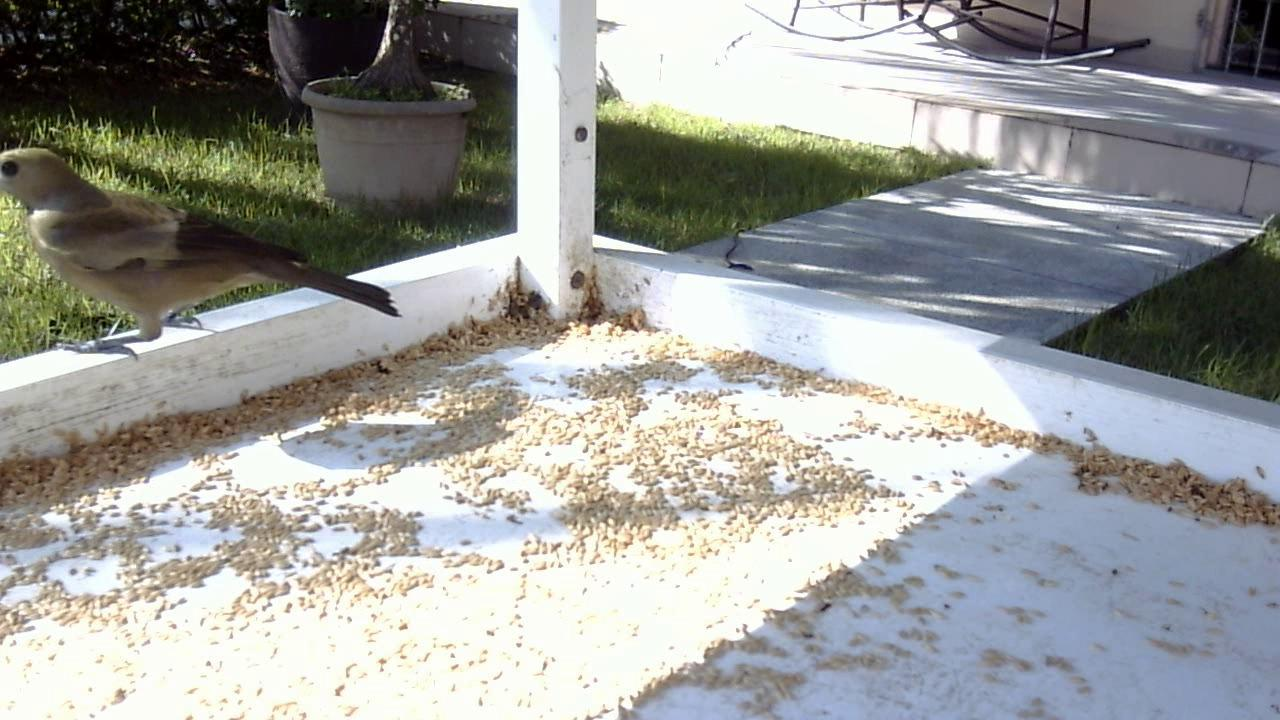sanhaco_do_coqueiro: (1, 138, 397, 359)
